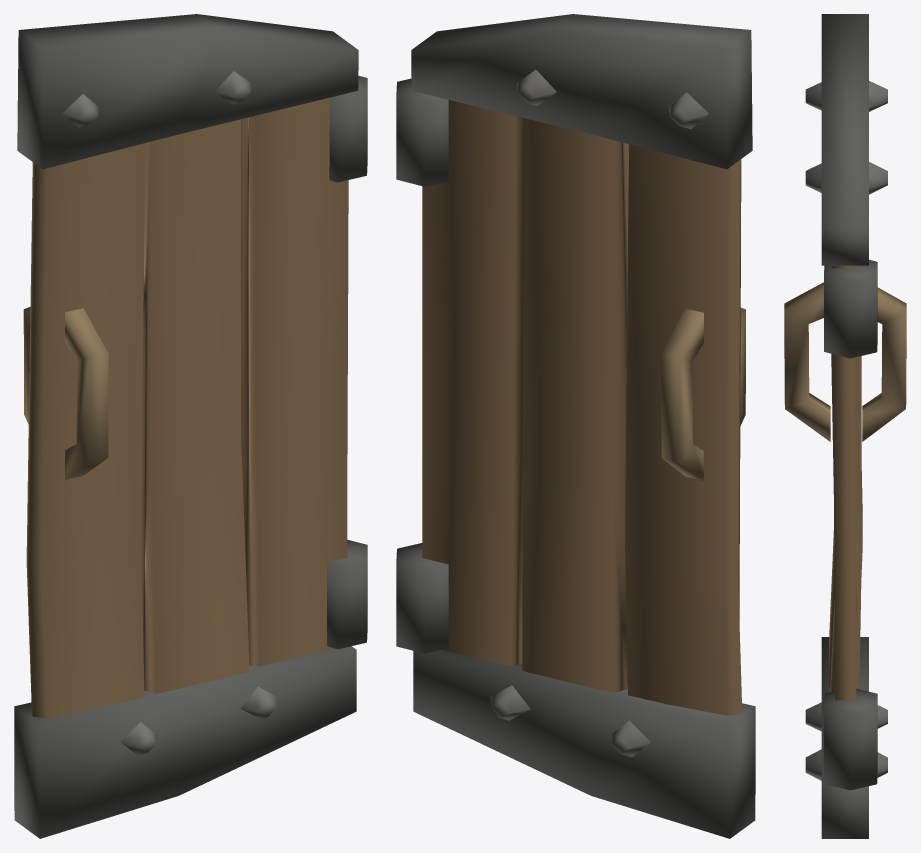
Rendered from rpgpp_ag_door_05_right.fbx.
3 renders of one model, left to right at view 1: azimuth 30°, elevation 25°; view 2: azimuth 150°, elevation 25°; view 3: azimuth 270°, elevation 25°, orthographic. The views are drawn at different scales.
Visible parts, largest first — view 1: rpgpp_ag_door_05_right; view 2: rpgpp_ag_door_05_right; view 3: rpgpp_ag_door_05_right.
Part boxes in pixels (bbox=[...]): rpgpp_ag_door_05_right: bbox=[14, 14, 367, 838]; rpgpp_ag_door_05_right: bbox=[396, 14, 755, 838]; rpgpp_ag_door_05_right: bbox=[784, 14, 906, 838].
Bounding box in the file's own units: 1.03 × 2.26 × 0.3445.
